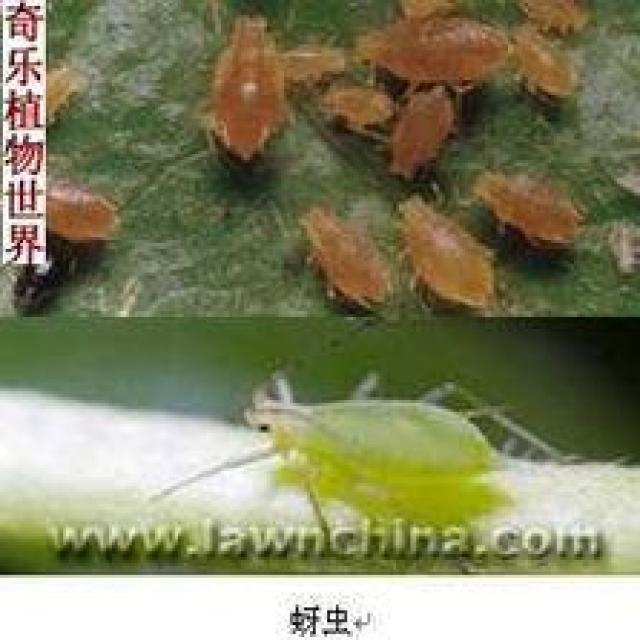Aphids: (116, 336, 615, 519), (360, 173, 506, 330), (194, 4, 306, 185), (351, 1, 526, 93)
